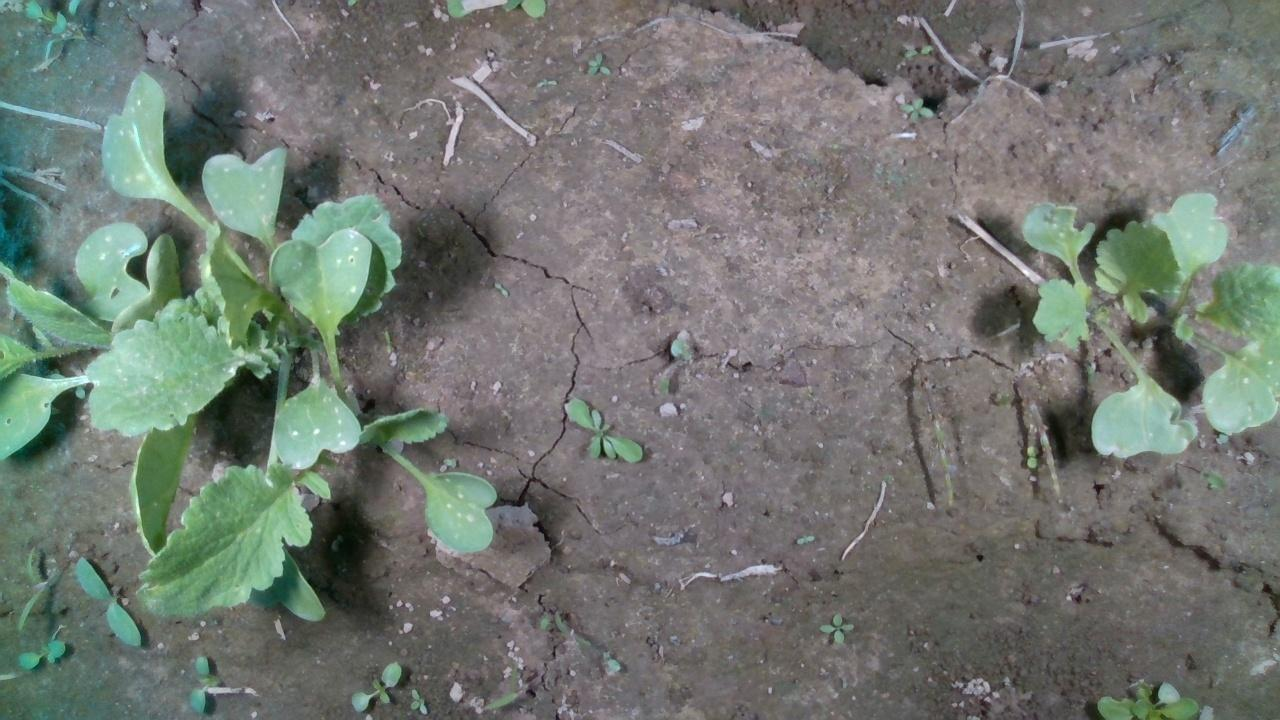weed: (563, 395, 643, 461), (348, 661, 402, 713), (187, 653, 213, 714), (15, 638, 65, 669), (894, 94, 937, 123), (818, 610, 854, 642), (584, 50, 612, 74), (409, 687, 428, 715), (1024, 443, 1040, 468), (794, 533, 815, 546)
